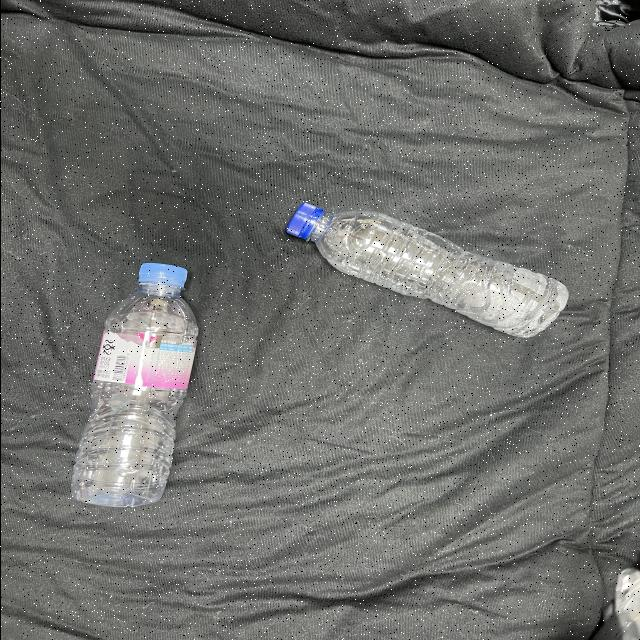plastic: (263, 181, 585, 356), (54, 248, 213, 512)
